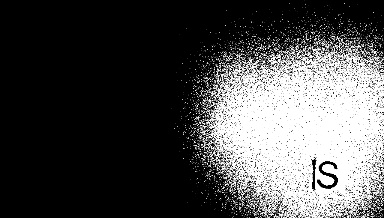S: (315, 155, 342, 191)
